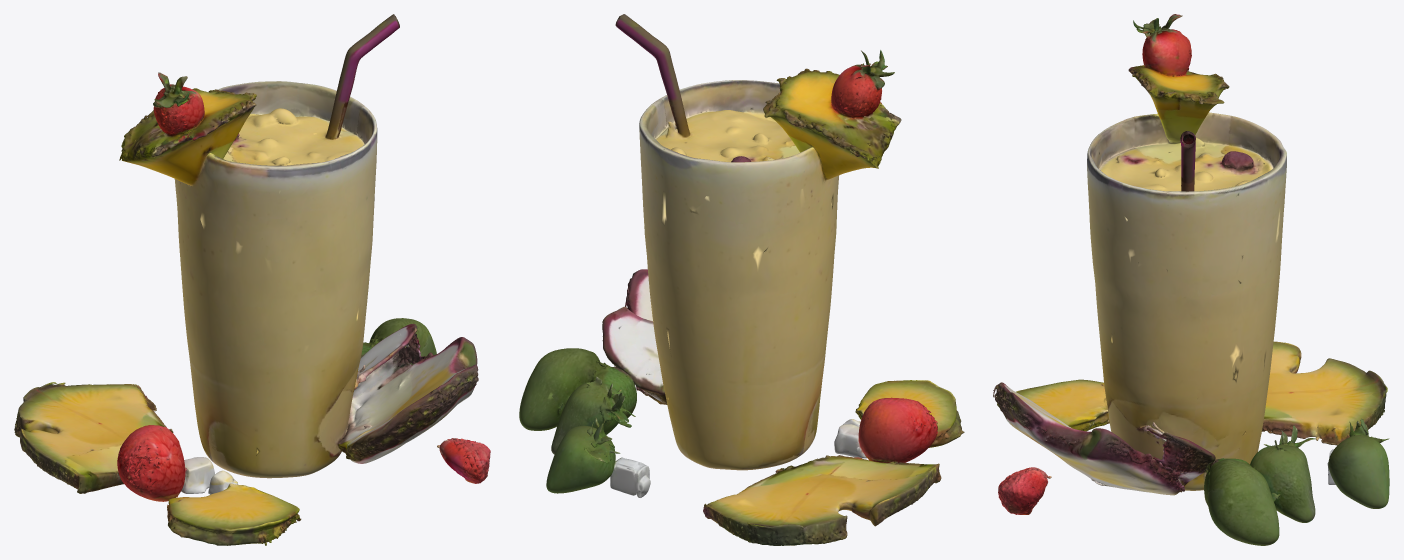
File: Tropical_Fruit_Smoothie.glb
3 views of the same model, side by side, from view 1: azimuth 30°, elevation 25°; view 2: azimuth 150°, elevation 25°; view 3: azimuth 270°, elevation 25° (orthographic). The views are drawn at different scales.
Size of the model in its own units: 1.95 by 1.96 by 1.76.
Materials: 1 (1 with a texture image).
